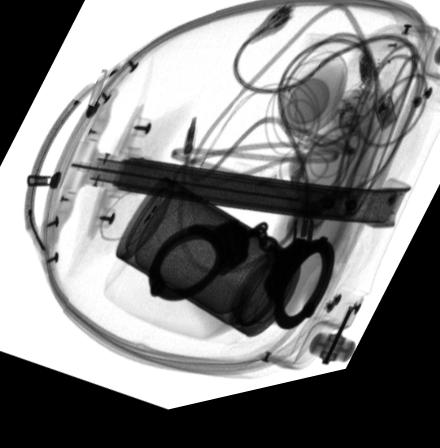HandCuffs: (147, 230, 336, 346)
